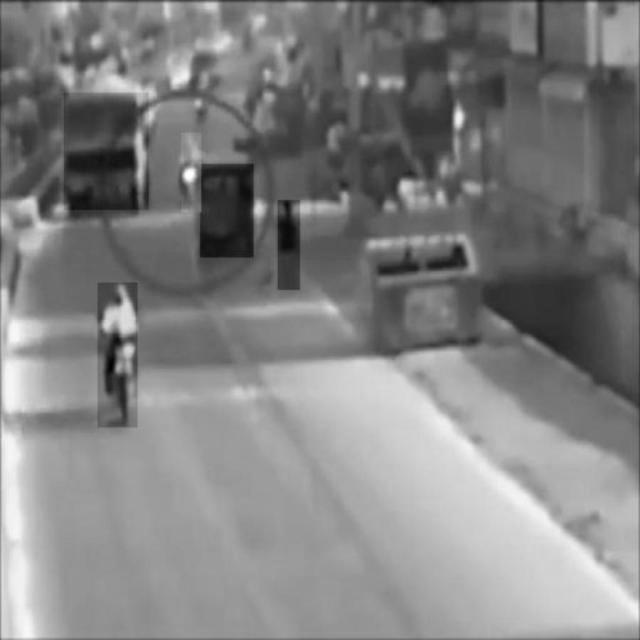person: (278, 201, 300, 291)
vehicle: (64, 93, 148, 211), (97, 283, 138, 427), (200, 164, 254, 257), (182, 133, 202, 213)
